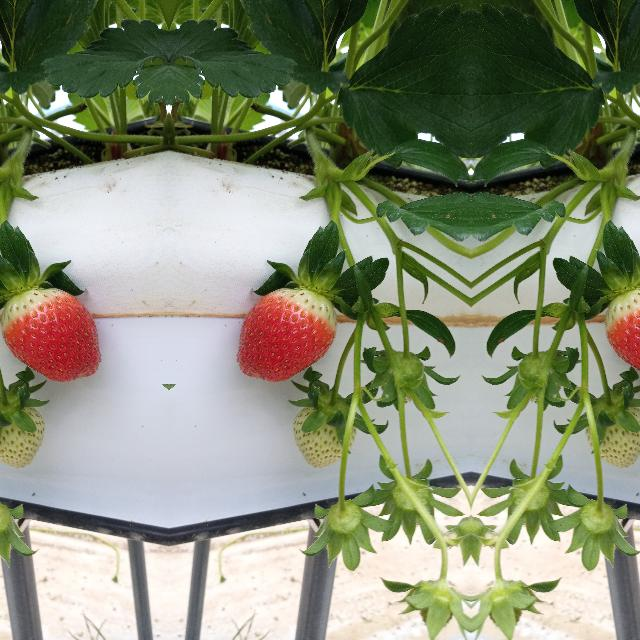Health_100: (235, 288, 338, 382), (0, 288, 101, 382), (603, 288, 640, 382)
Health_25: (293, 388, 347, 469), (594, 388, 640, 469), (0, 388, 43, 469)
